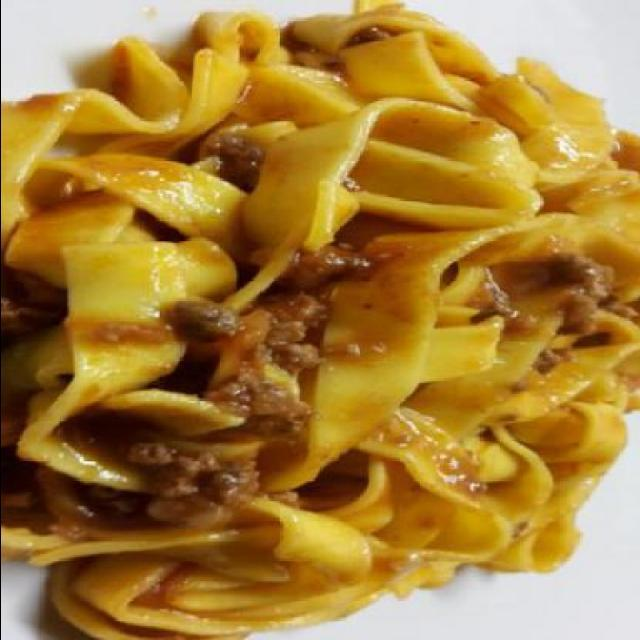Pasta al ragu: (2, 49, 610, 629)
